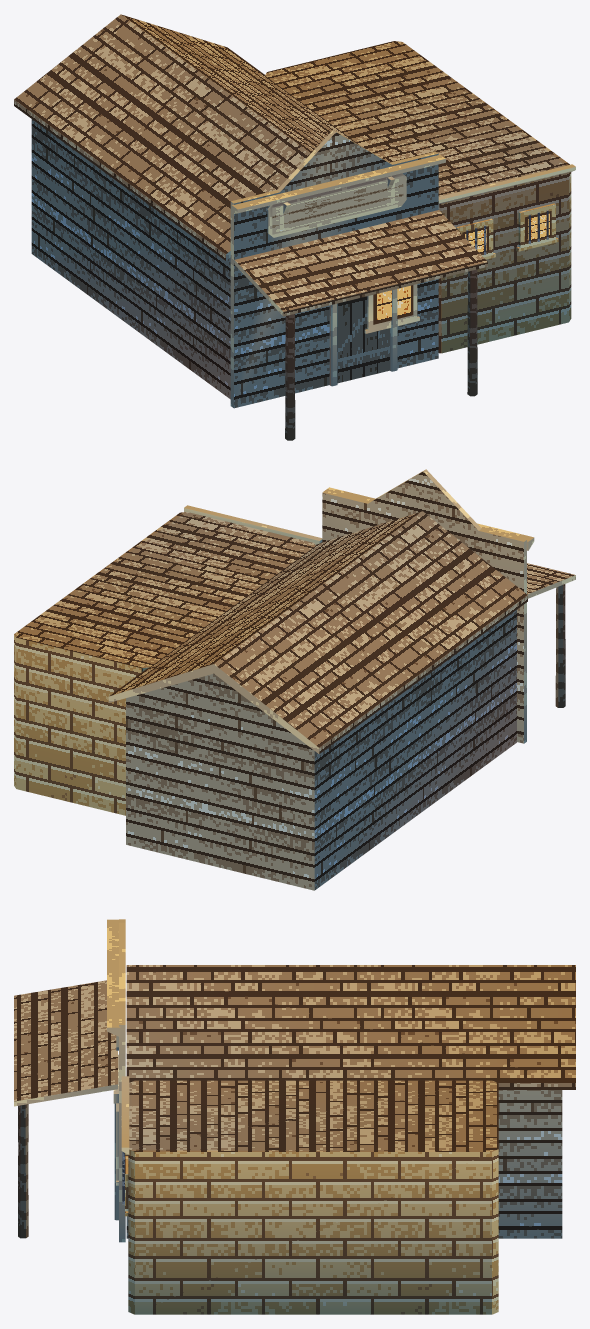
File: wtown.sheriff.glb
The picture shows the model from 3 angles, top to bottom: view 1: azimuth 30°, elevation 25°; view 2: azimuth 150°, elevation 25°; view 3: azimuth 270°, elevation 25°; orthographic projection. The views are drawn at different scales.
Parts seen in each view (by area): view 1: kit_roof, kit_jail, kit_body, kit_front, kit_porch, kit_card_panes, kit_trim, kit_windows; view 2: kit_body, kit_roof, kit_jail, kit_front, kit_porch, kit_trim; view 3: kit_jail, kit_roof, kit_porch, kit_body, kit_trim, kit_front.
Part boxes in pixels (box(x1,y1,x2,y2)): kit_roof: box(14, 14, 439, 260); kit_jail: box(265, 41, 575, 353); kit_body: box(31, 119, 230, 399); kit_front: box(230, 130, 438, 408); kit_porch: box(234, 210, 487, 440); kit_card_panes: box(272, 176, 551, 383); kit_trim: box(231, 154, 445, 386); kit_windows: box(364, 203, 558, 333); kit_body: box(126, 610, 516, 890); kit_roof: box(108, 511, 527, 753); kit_jail: box(14, 505, 322, 815); kit_front: box(322, 469, 526, 743); kit_porch: box(527, 563, 575, 707); kit_trim: box(323, 487, 534, 550); kit_jail: box(121, 1076, 498, 1314); kit_roof: box(126, 965, 575, 1089); kit_porch: box(14, 980, 117, 1238); kit_body: box(126, 1090, 562, 1238); kit_trim: box(107, 919, 120, 1220); kit_front: box(119, 919, 125, 1242).
Size of the model in its own units: 7.85 by 5.4 by 10.32.
Materials: 9 (9 with a texture image).
